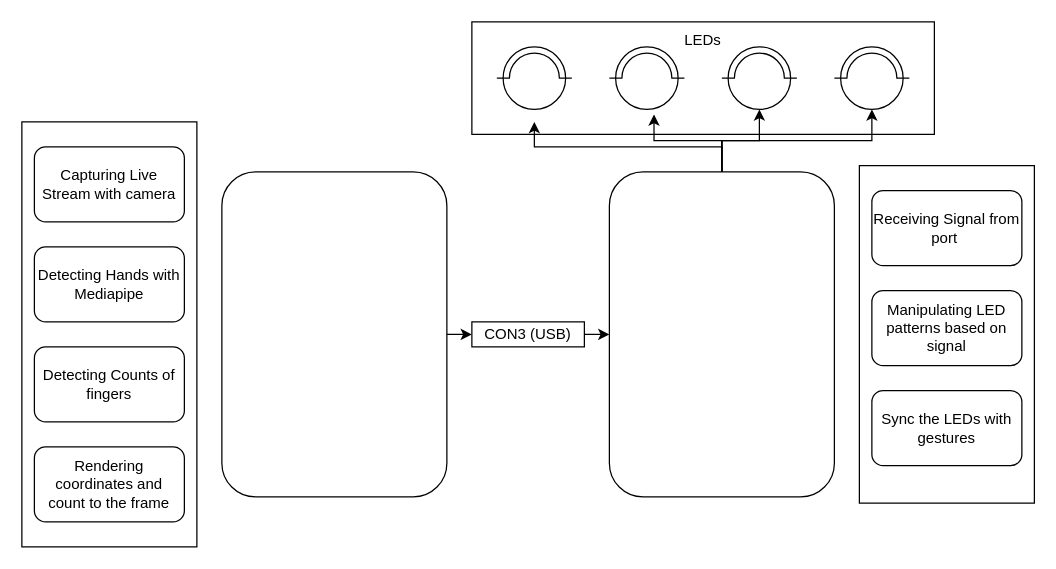
Image size: 1056x569. Some labels were removed from this diagram. Each missing label, with the centre of its shape:
Arduino Uno Rev3: [721,334]
Hand gesture detection module: [334,334]
